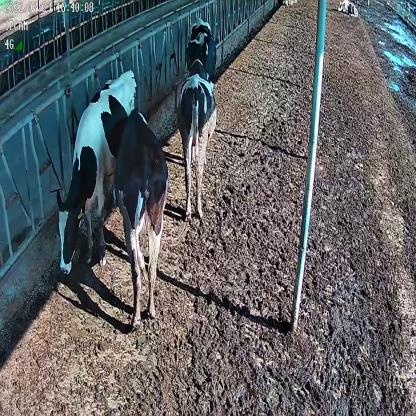cow: (56, 67, 138, 280), (115, 109, 168, 323), (177, 37, 217, 224), (188, 17, 218, 92), (336, 0, 360, 22)
